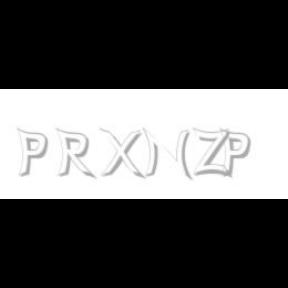N: (142, 128, 190, 180)
P: (16, 128, 48, 178), (219, 128, 251, 178)
R: (55, 128, 93, 180)
X: (99, 128, 143, 180)
Z: (194, 128, 231, 178)
